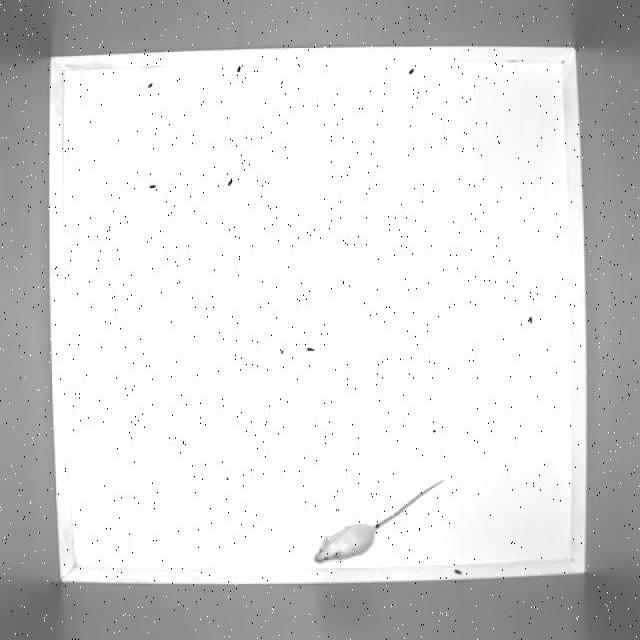rat: (316, 476, 448, 564)
